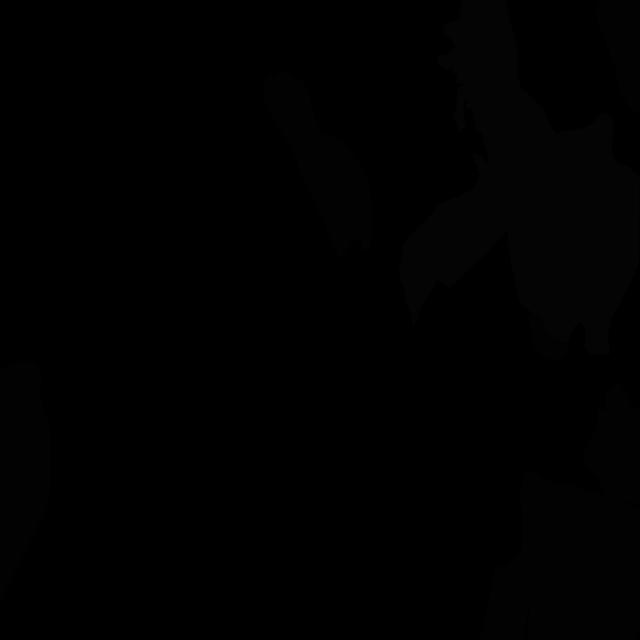cardboard: (476, 471, 640, 640), (263, 71, 373, 260), (0, 361, 51, 601), (582, 380, 640, 505), (596, 0, 640, 116), (528, 313, 570, 361)
soft_plastic: (438, 0, 640, 355), (398, 175, 508, 328)
